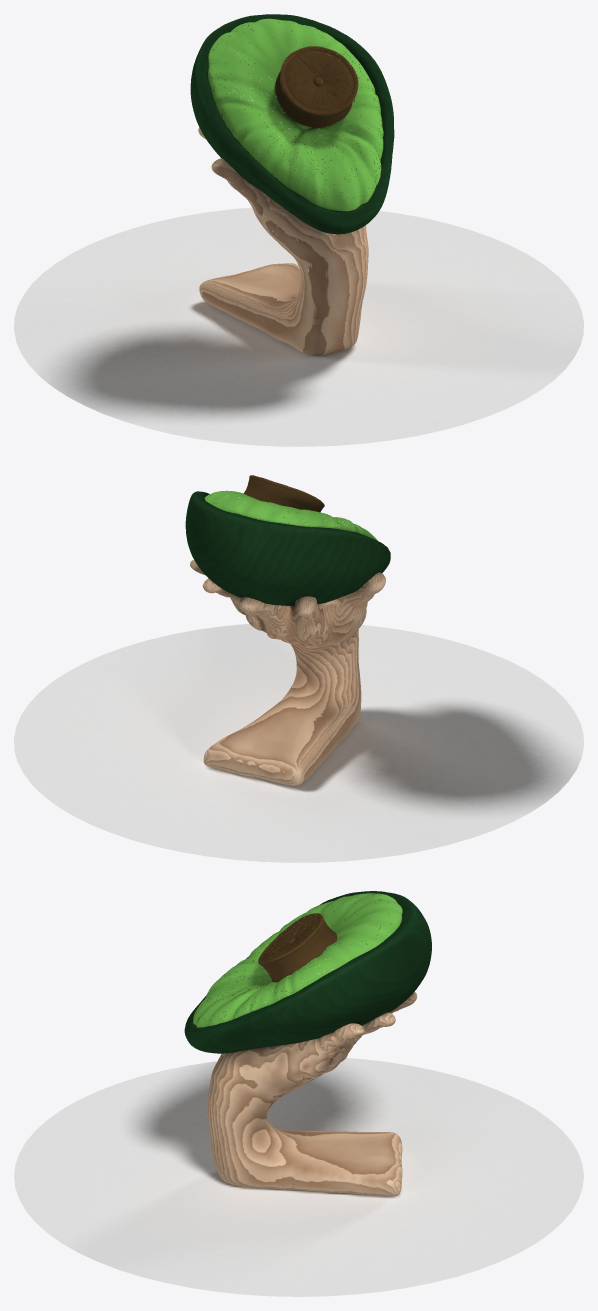
Rendered from avocado.gltf.
3 renders of one model, top to bottom at view 1: azimuth 30°, elevation 25°; view 2: azimuth 150°, elevation 25°; view 3: azimuth 270°, elevation 25°, orthographic.
Visible parts, largest first — view 1: Circle; view 2: Circle; view 3: Circle.
Part boxes in pixels (x1=…): Circle: x1=14, y1=14, x2=583, y2=446; Circle: x1=14, y1=475, x2=583, y2=862; Circle: x1=14, y1=891, x2=583, y2=1296.
Size of the model in its own units: 2.59 by 1.36 by 2.59.
Materials: 1 (1 with a texture image).
